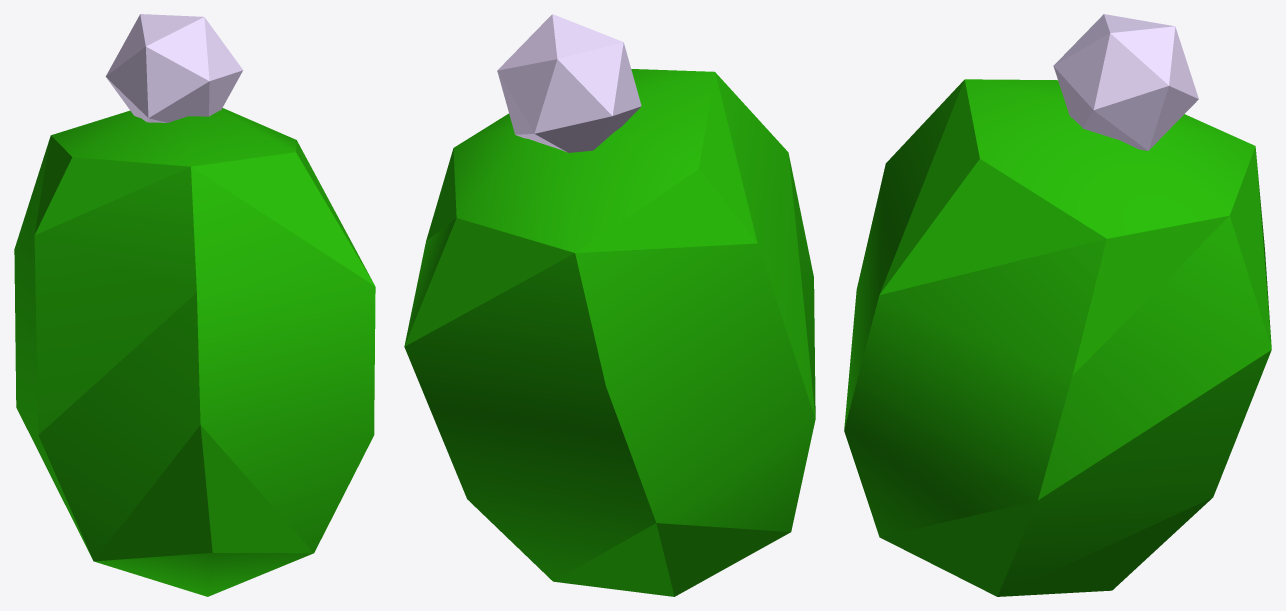
Rendered from cactus2.obj.
3 renders of one model, left to right at view 1: azimuth 30°, elevation 25°; view 2: azimuth 150°, elevation 25°; view 3: azimuth 270°, elevation 25°, orthographic. The views are drawn at different scales.
Parts seen in each view (by area): view 1: pasted__pCylinder1 group, group pasted__pPlatonic1; view 2: pasted__pCylinder1 group, group pasted__pPlatonic1; view 3: pasted__pCylinder1 group, group pasted__pPlatonic1.
Part boxes in pixels (<box>): pasted__pCylinder1 group: <box>14,108,375,596</box>; group pasted__pPlatonic1: <box>105,14,243,122</box>; pasted__pCylinder1 group: <box>404,69,815,596</box>; group pasted__pPlatonic1: <box>497,14,641,152</box>; pasted__pCylinder1 group: <box>844,79,1271,596</box>; group pasted__pPlatonic1: <box>1053,14,1198,150</box>.
Size of the model in its own units: 0.4296 by 0.6409 by 0.4369.
